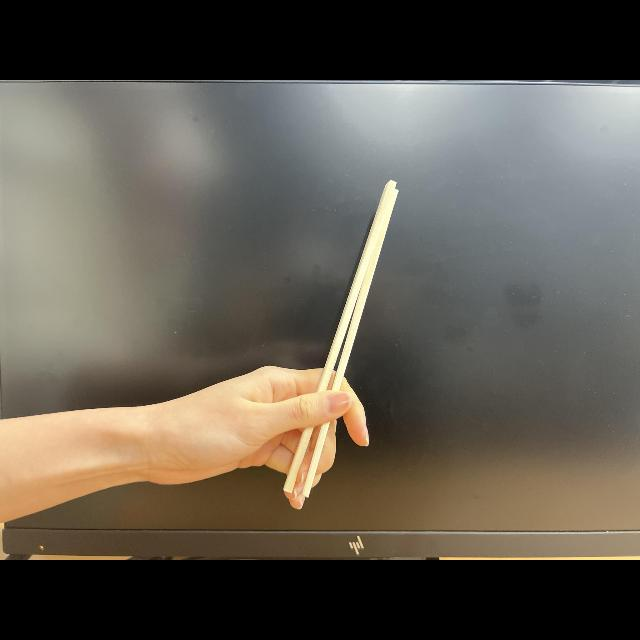stick: (249, 180, 397, 510)
